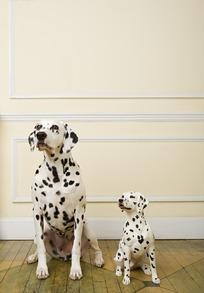dog: (23, 112, 83, 165), (113, 189, 147, 221)
